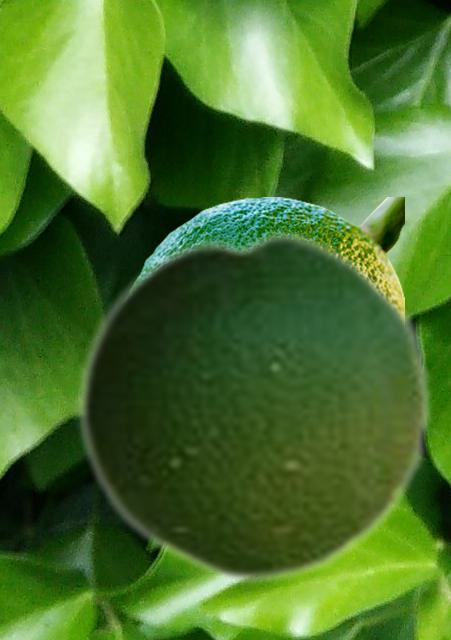dalandan: (75, 225, 433, 587), (139, 197, 403, 298)
